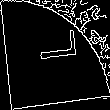L_W: (30, 36, 80, 74)
